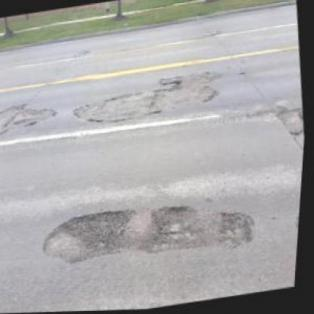Hueco: (62, 207, 143, 256), (150, 200, 202, 251), (220, 205, 260, 249), (173, 78, 184, 90)
